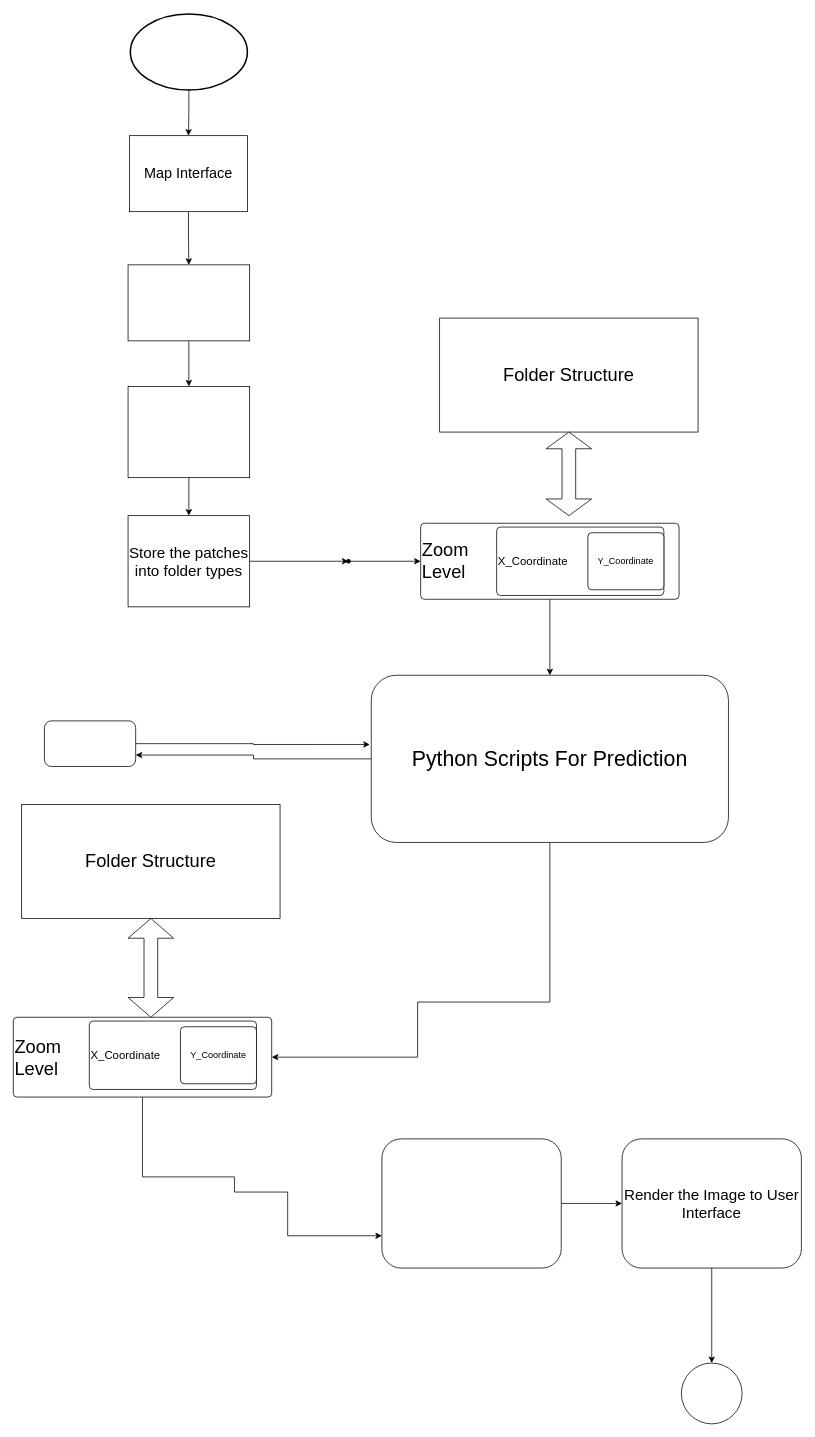
Image size: 815x1437. Some labels were removed from this diagram. Each missing label, with the centre of its shape:
"Area Selector" goes at point 188,302.
"Divide Selected Area Into Patches" goes at point 188,432.
"End" goes at point 711,1393.
"Merge Tiles According to respective Zoom Layers" goes at point 471,1203.
"ML_Model" goes at point 90,743.
"Start" goes at point 188,51.
